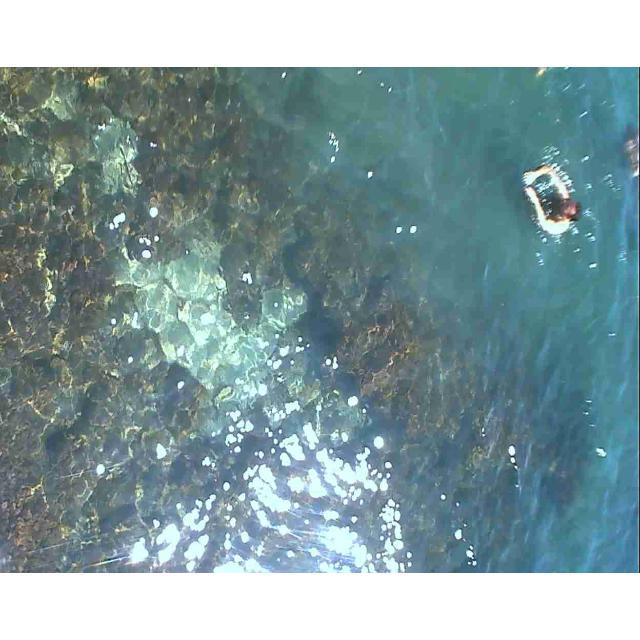human: (520, 161, 582, 247), (458, 67, 559, 78)
